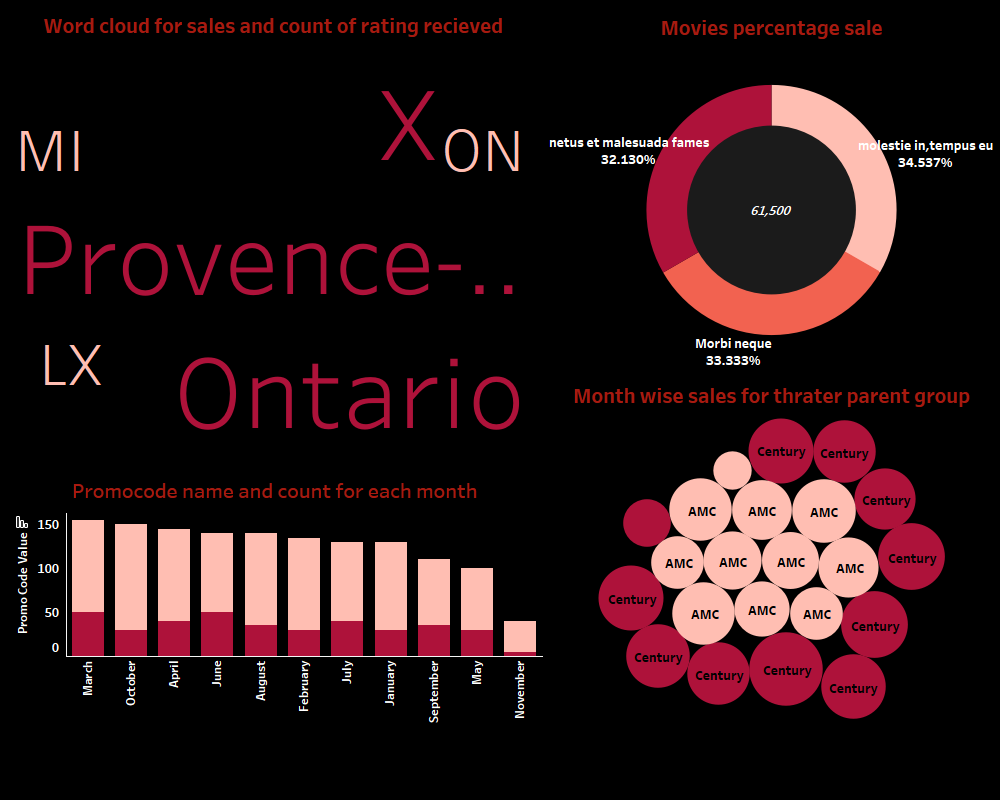

This screenshot's page, from the dashboard's own definition file:
{"tool":"tableau","page":{"name":"Dashboard 3","canvas":[1000,800],"ordinal":2},"visuals":[{"type":"worksheet","title":"word cloud for sales and count of rating recieved","mark":"Text","box":[3,5,540,459]},{"type":"worksheet","title":"movies percentage sale","mark":"Pie","cols":["Calculation_705376292051582977","Calculation_705376292051705859"],"box":[549,7,445,364]},{"type":"worksheet","title":"month wise sales for thrater parent group","mark":"Circle","box":[547,375,449,344]},{"type":"worksheet","title":"promocode name and count for each month","mark":"Automatic","rows":["PromoCodeValue"],"cols":["month_name"],"box":[7,470,535,266]}]}

Visuals, with their boxes in screenshot pixels (x1, y1, x2, y2), scaled from the page's 1000x800 canvas onto the 1000x800 screenshot:
"word cloud for sales and count of rating recieved" worksheet (Text marks): crop(3, 5, 543, 464)
"movies percentage sale" worksheet (Pie marks): crop(549, 7, 994, 371)
"month wise sales for thrater parent group" worksheet (Circle marks): crop(547, 375, 996, 719)
"promocode name and count for each month" worksheet: crop(7, 470, 542, 736)
